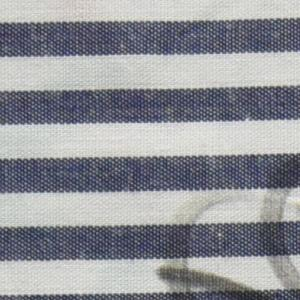Stain: (156, 152, 300, 300)
